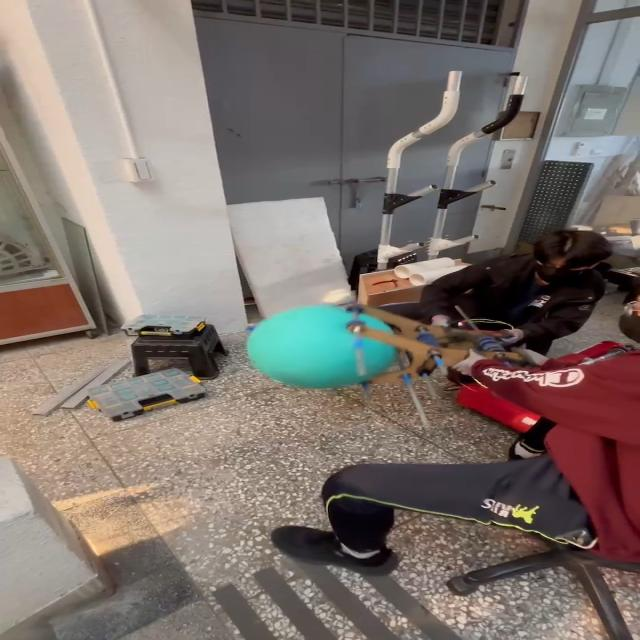ALGAE: (244, 303, 398, 389)
